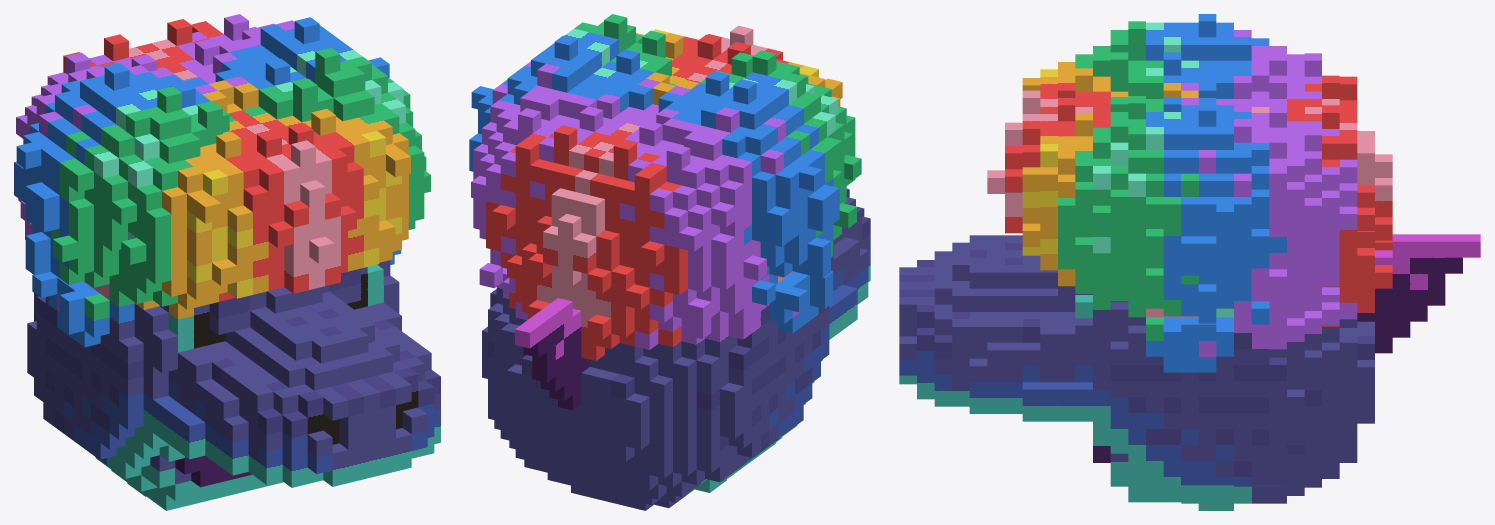
File: clown wig_3d glasses.gltf
3 renders of one model, left to right at view 1: azimuth 30°, elevation 25°; view 2: azimuth 150°, elevation 25°; view 3: azimuth 270°, elevation 25°, orthographic. The views are drawn at different scales.
Visible parts, largest first — view 1: C07_H_ClownW_CoolD_3DG_RainbowShade-Mesh; view 2: C07_H_ClownW_CoolD_3DG_RainbowShade-Mesh; view 3: C07_H_ClownW_CoolD_3DG_RainbowShade-Mesh.
Boxes of the visible parts, x1,y1,x2,y2 form: C07_H_ClownW_CoolD_3DG_RainbowShade-Mesh: (14, 14, 440, 510); C07_H_ClownW_CoolD_3DG_RainbowShade-Mesh: (469, 14, 870, 510); C07_H_ClownW_CoolD_3DG_RainbowShade-Mesh: (899, 14, 1480, 510).
Bounding box in the file's own units: 23 × 26 × 33.
Materials: 1 (1 with a texture image).
